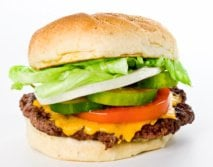soup: (8, 11, 189, 141)
